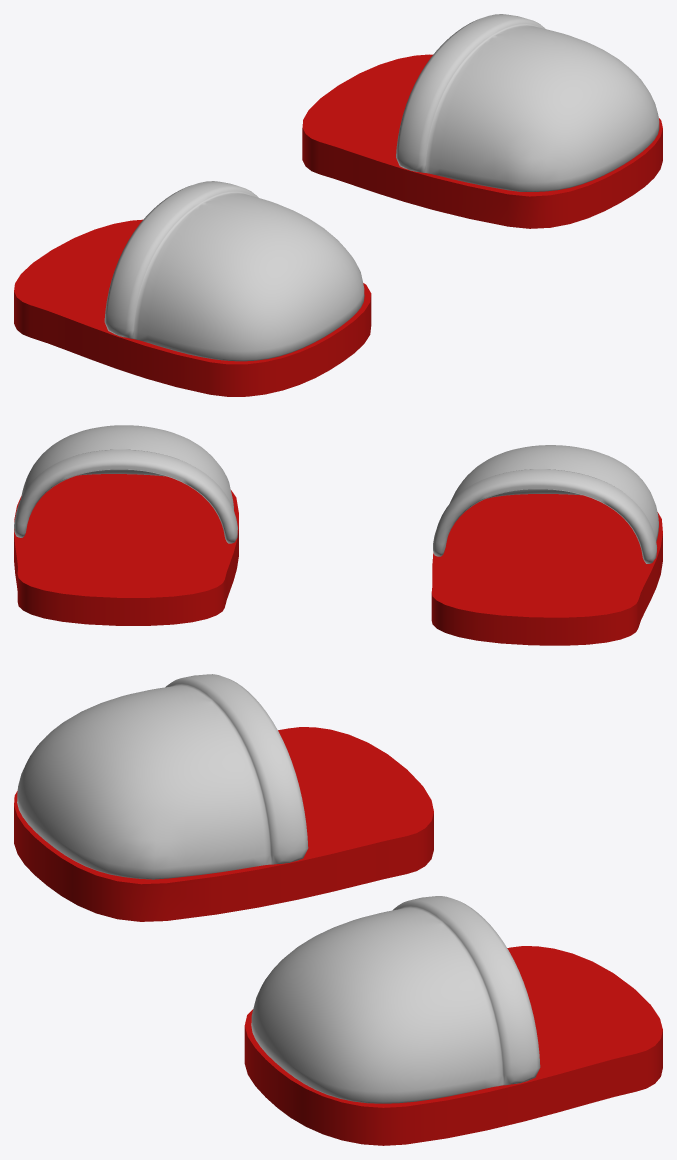
3 renders of one model, top to bottom at view 1: azimuth 30°, elevation 25°; view 2: azimuth 150°, elevation 25°; view 3: azimuth 270°, elevation 25°, orthographic. The views are drawn at different scales.
Visible parts, largest first — view 1: 300; view 2: 300; view 3: 300.
Boxes of the visible parts, bbox=[...] form: 300: bbox=[14, 14, 662, 396]; 300: bbox=[14, 425, 662, 645]; 300: bbox=[14, 674, 662, 1145].
Size of the model in its own units: 99.71 by 71.81 by 18.39.
